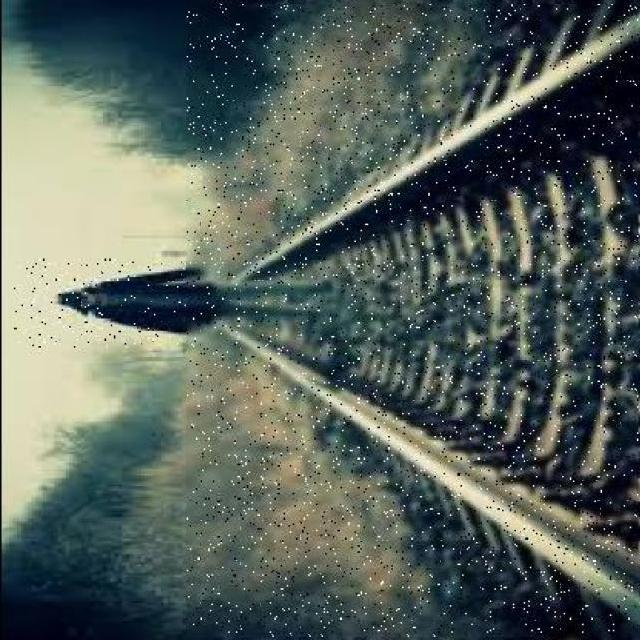rail: (187, 6, 637, 636)
